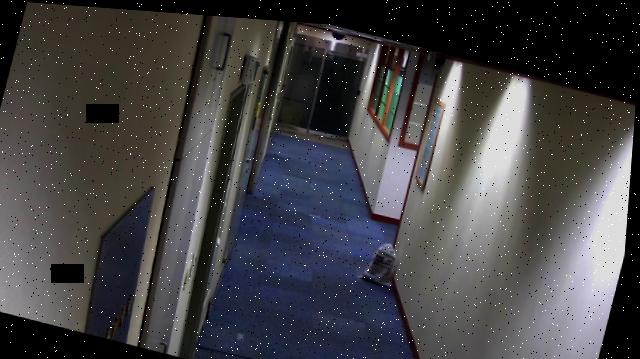trash: (364, 232, 407, 281)
